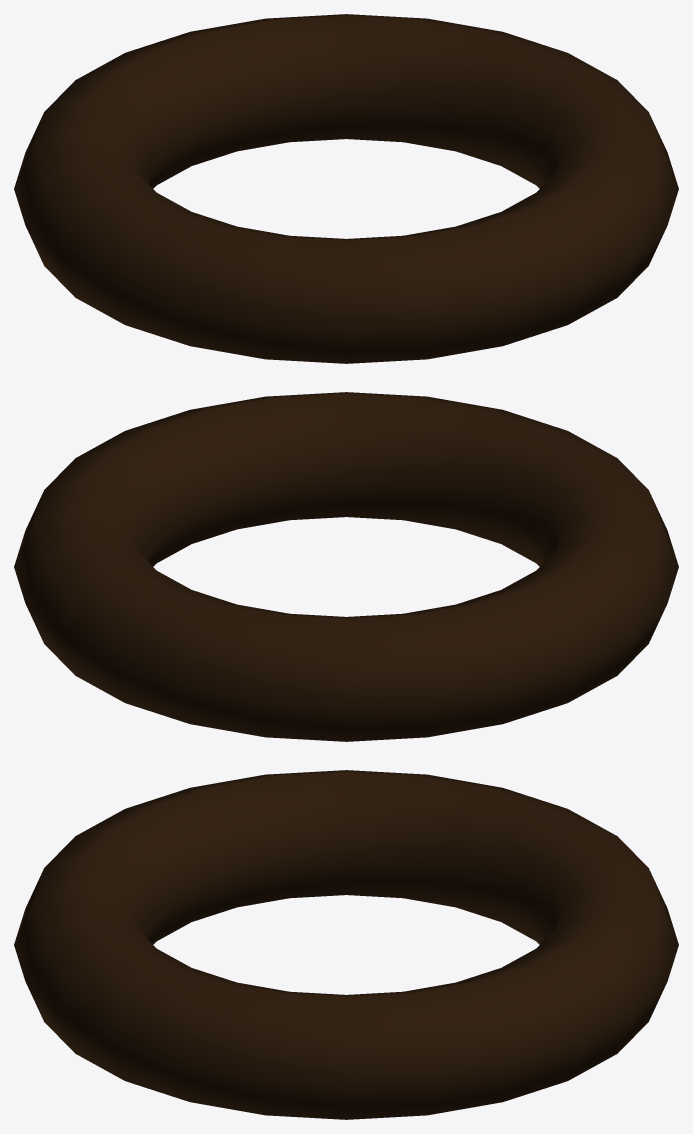
Rendered from p0590-khor-na-skale-a-cappella.glb.
The picture shows the model from 3 angles, top to bottom: view 1: azimuth 30°, elevation 25°; view 2: azimuth 150°, elevation 25°; view 3: azimuth 270°, elevation 25°; orthographic projection.
Visible parts, largest first — view 1: p0590-khor-na-skale-a-cappella; view 2: p0590-khor-na-skale-a-cappella; view 3: p0590-khor-na-skale-a-cappella.
Part boxes in pixels (x1=…): p0590-khor-na-skale-a-cappella: x1=14, y1=14, x2=678, y2=363; p0590-khor-na-skale-a-cappella: x1=14, y1=392, x2=678, y2=741; p0590-khor-na-skale-a-cappella: x1=14, y1=770, x2=678, y2=1119.
Size of the model in its own units: 5 by 1 by 5.
